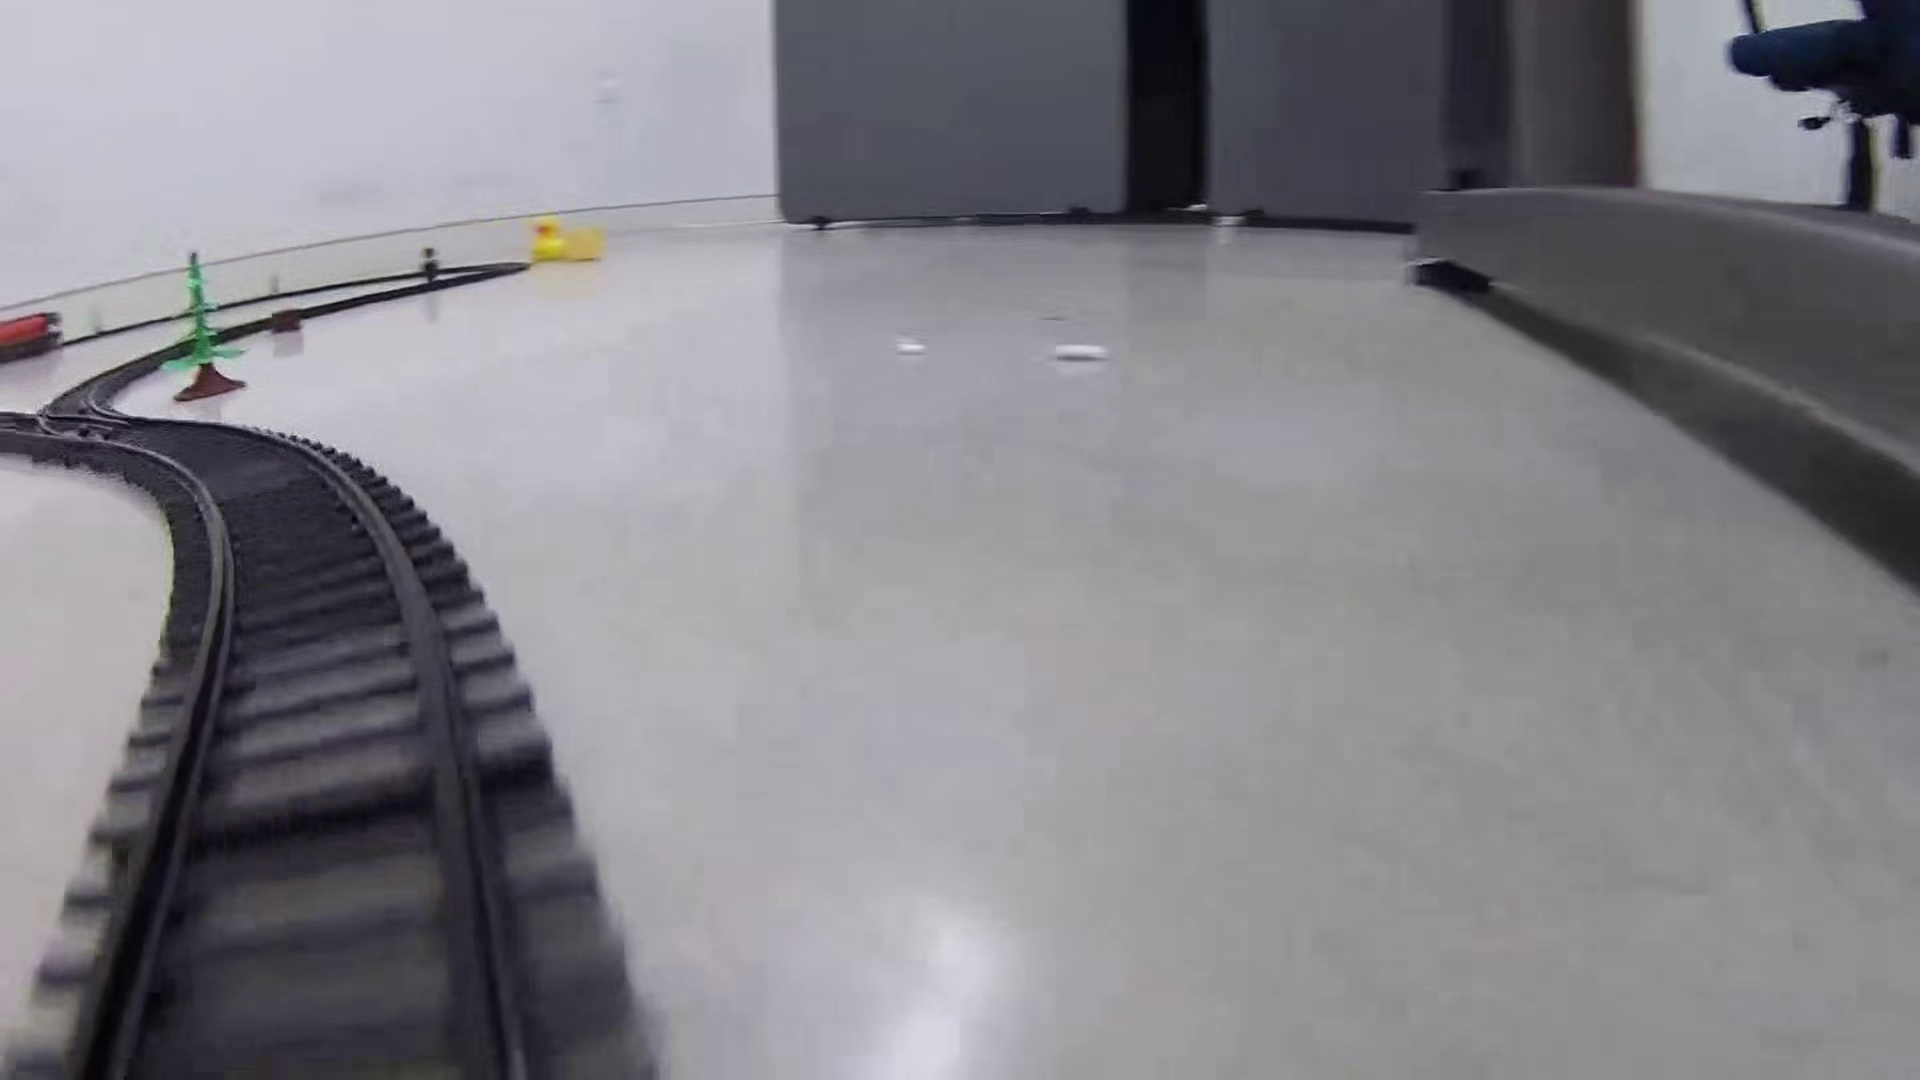box: (265, 305, 303, 336)
people: (418, 242, 442, 290)
tree: (159, 245, 255, 406)
